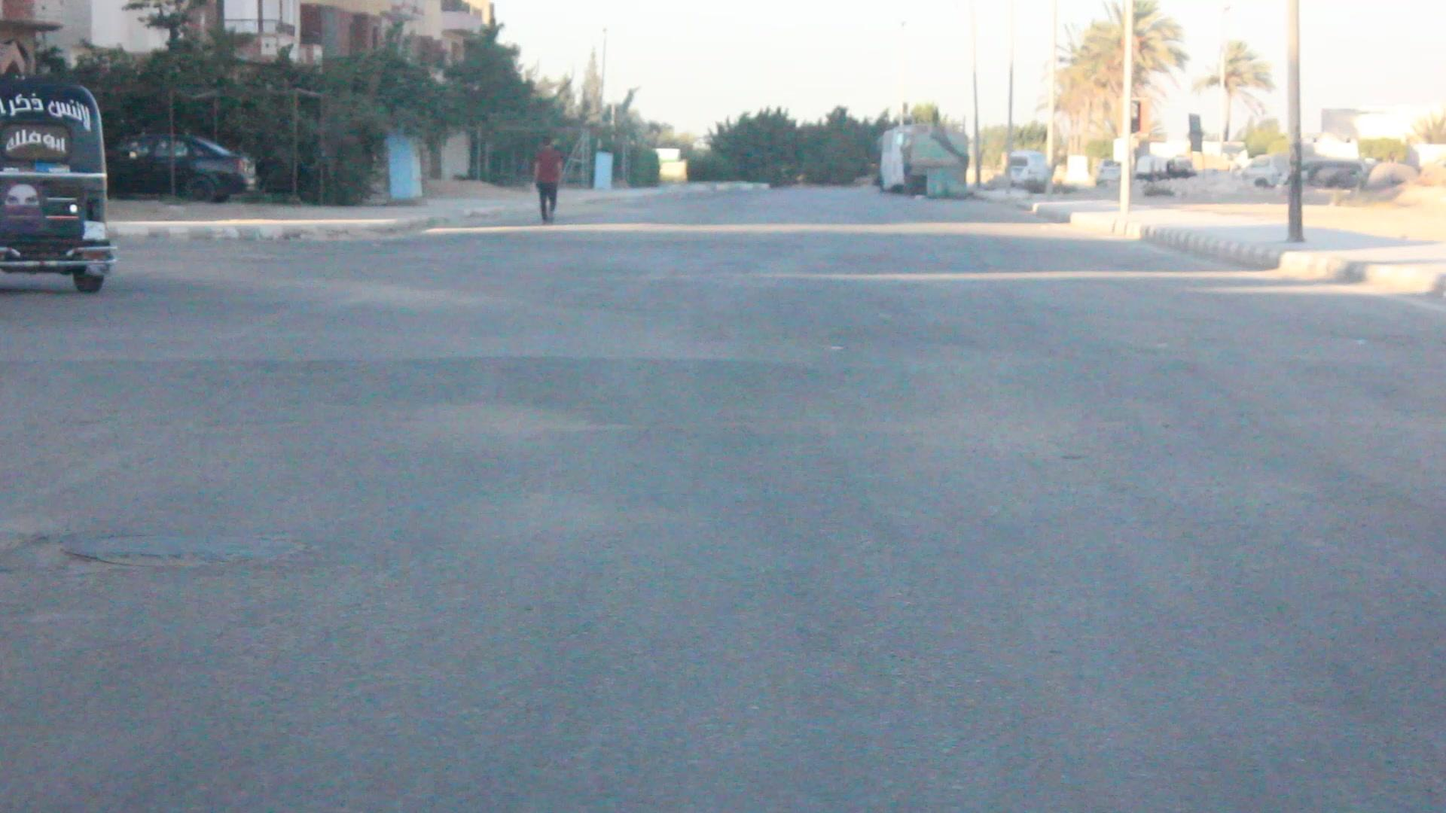Bump: (0, 339, 1446, 450)
